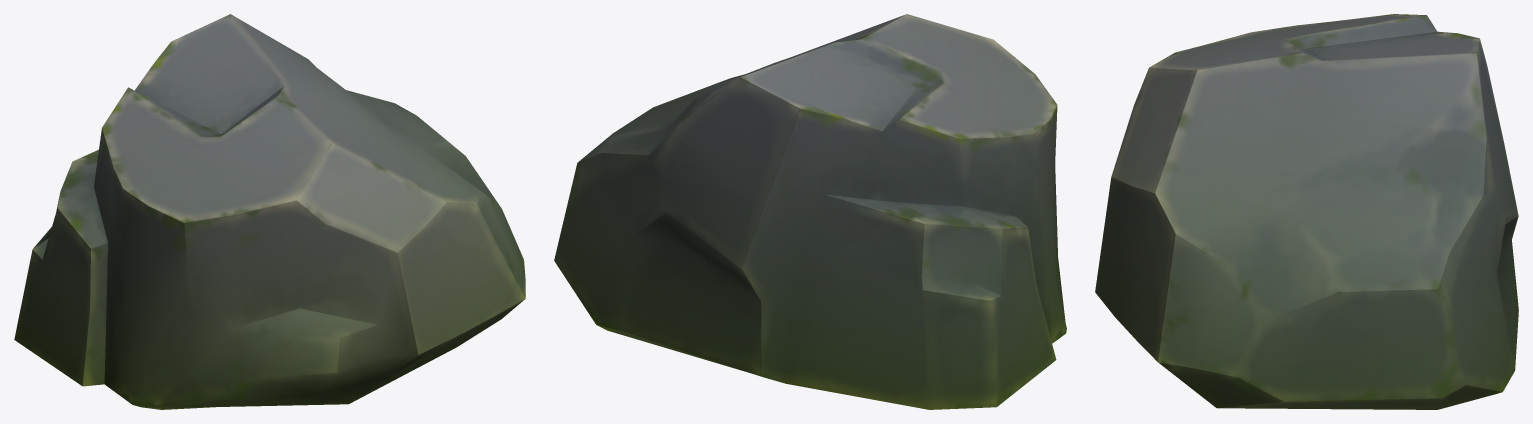
The model's file is rock_a.gltf.
The picture shows the model from 3 angles, left to right: view 1: azimuth 30°, elevation 25°; view 2: azimuth 150°, elevation 25°; view 3: azimuth 270°, elevation 25°; orthographic projection. The views are drawn at different scales.
Visible parts, largest first — view 1: Rock_Medium_2; view 2: Rock_Medium_2; view 3: Rock_Medium_2.
Part boxes in pixels (x1,y1,x2,y2): Rock_Medium_2: (14,14,525,409); Rock_Medium_2: (554,14,1066,409); Rock_Medium_2: (1095,14,1518,409).
Size of the model in its own units: 3.05 by 1.9 by 2.48.
Materials: 1 (1 with a texture image).
